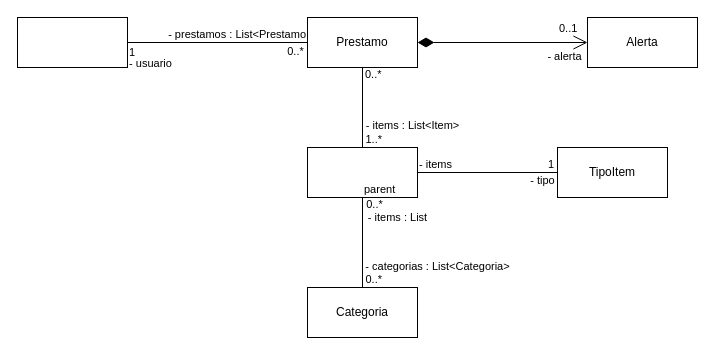
Image size: 715x355. Some labels were removed from this diagram. The box of each missing label's shape, as (x1, y1, x2, y2) in pixels:
Item: (306, 146, 418, 198)
Usuario: (16, 16, 128, 68)
